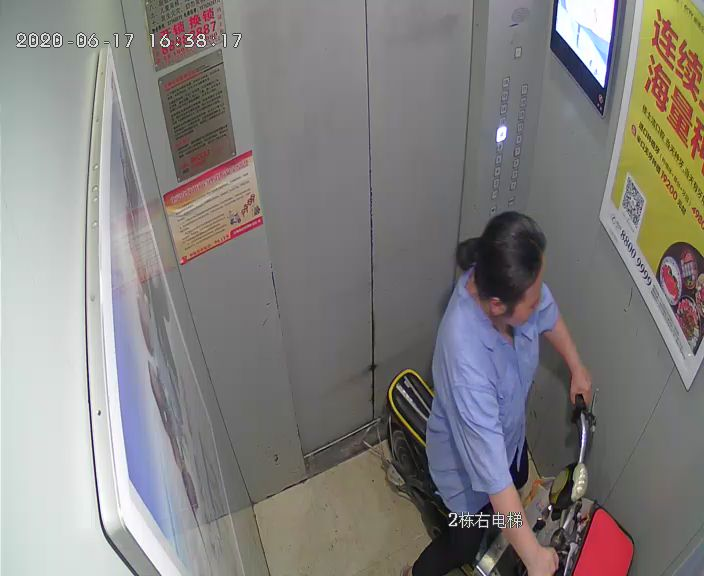Electric-bicycle: (363, 365, 634, 576)
